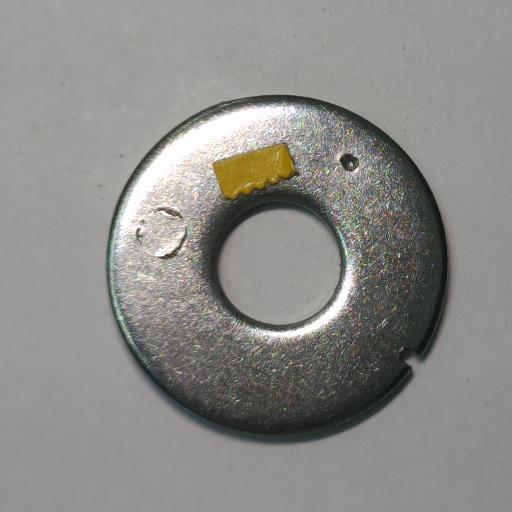burr: (399, 346, 421, 368)
